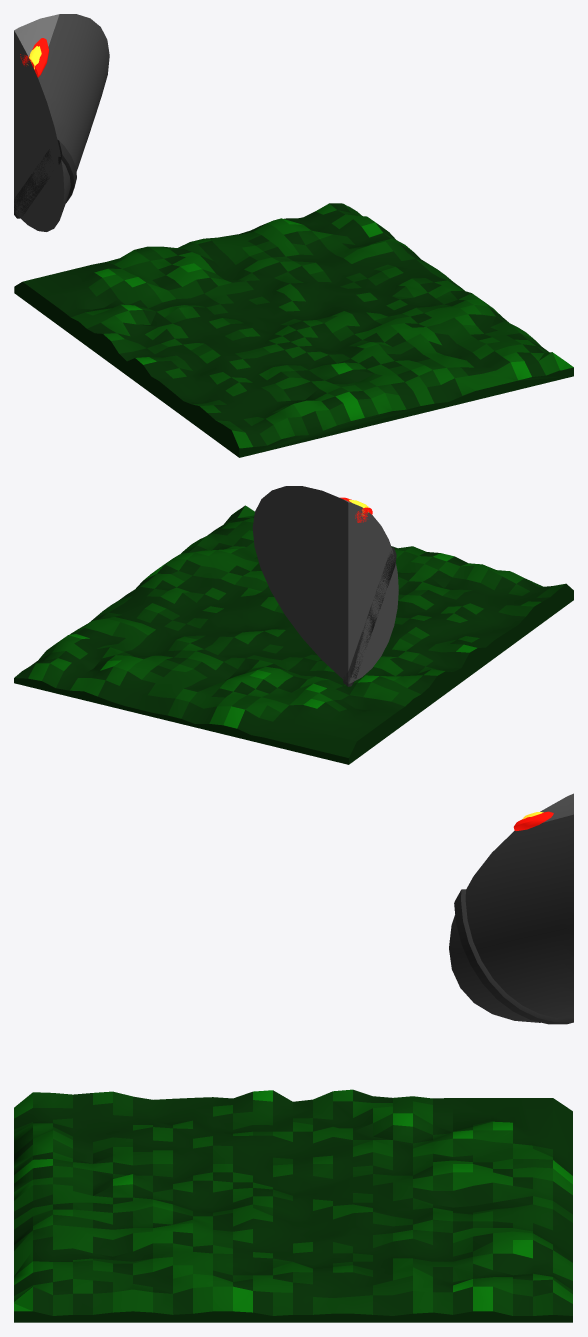
The model's file is mortar_leaves.glb.
3 renders of one model, top to bottom at view 1: azimuth 30°, elevation 25°; view 2: azimuth 150°, elevation 25°; view 3: azimuth 270°, elevation 25°, orthographic. The views are drawn at different scales.
Parts seen in each view (by area): view 1: foliage, barrel, band5; view 2: foliage, barrel, band5; view 3: foliage, barrel, band5.
Part boxes in pixels (x1,y1,x2,y2): foliage: [14, 203, 573, 457]; barrel: [14, 14, 109, 231]; band5: [14, 139, 76, 218]; foliage: [14, 505, 573, 764]; barrel: [252, 486, 398, 683]; band5: [343, 546, 396, 686]; foliage: [14, 1089, 572, 1322]; barrel: [449, 793, 573, 1022]; band5: [454, 889, 573, 1024].
Size of the model in its own units: 24 by 18.37 by 28.
